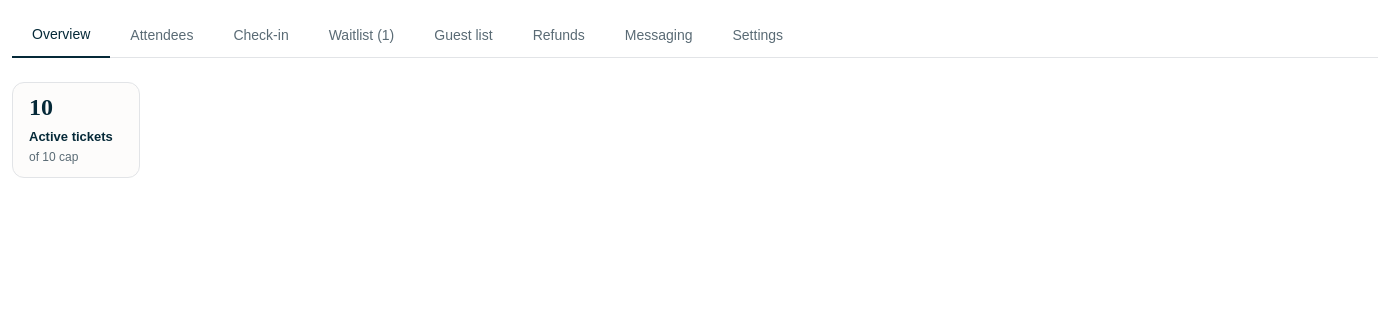
ManageEventTabs — Waitlist tab: Offer / Resend › leaves Withdraw usable while the event is full
Click the button "Waitlist (1)" at (362, 34), box [309,12,414,57]
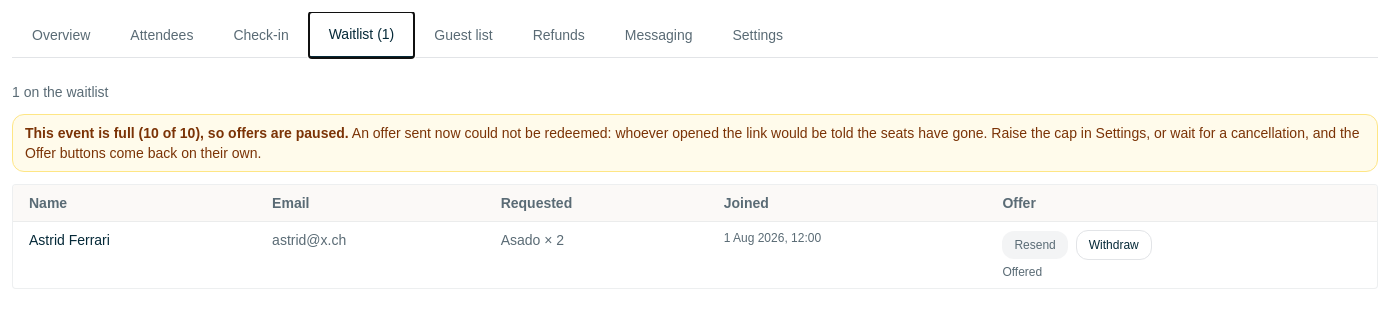
Click the button "Withdraw" at (1114, 245), box [1076,230,1152,260]
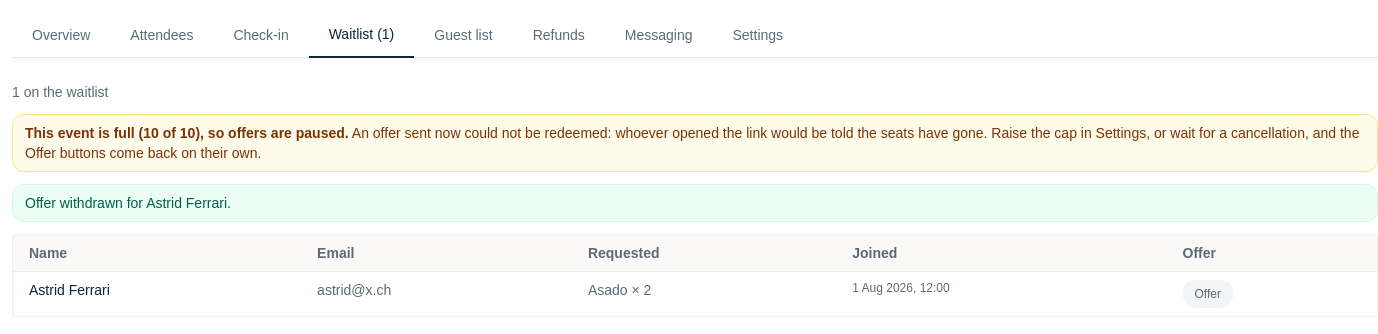
expect the text "Offer withdrawn for Astrid Ferrari." is shown: met, box [12,184,1377,222]
